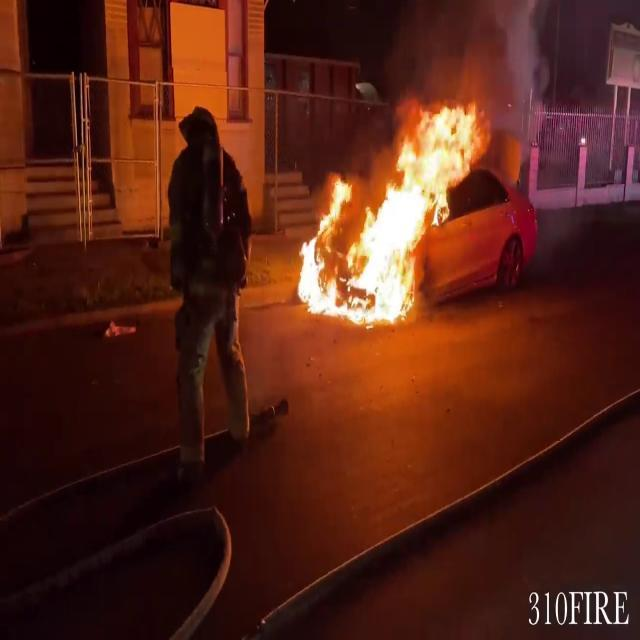Fire: (294, 94, 486, 326)
Smoke: (381, 0, 551, 124)
